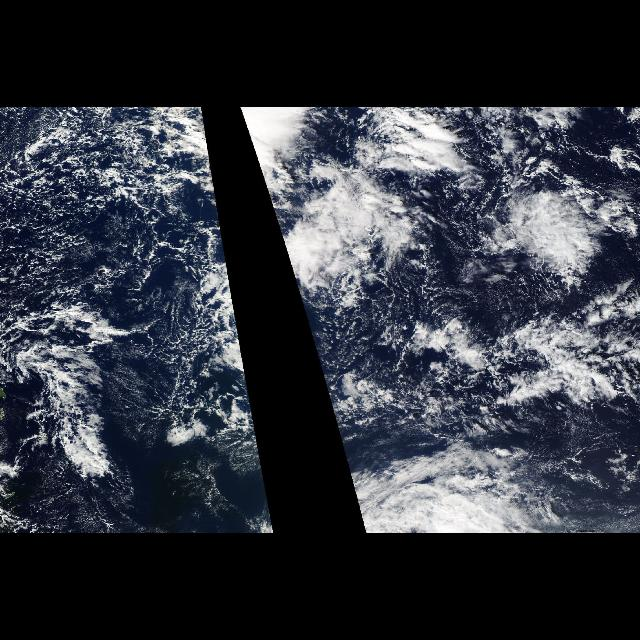Fish: (5, 330, 246, 496), (411, 292, 633, 418)
Gravel: (2, 110, 208, 376), (313, 300, 512, 398)
